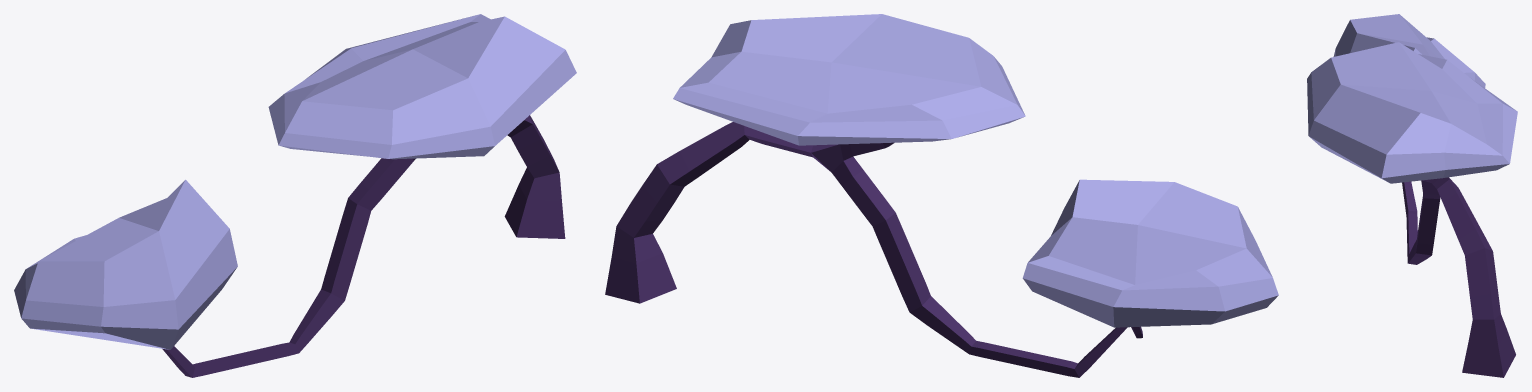
Rendered from Bush_00.fbx.
The picture shows the model from 3 angles, left to right: view 1: azimuth 30°, elevation 25°; view 2: azimuth 150°, elevation 25°; view 3: azimuth 270°, elevation 25°; orthographic projection. The views are drawn at different scales.
Parts seen in each view (by area): view 1: Bush_00; view 2: Bush_00; view 3: Bush_00.
Part boxes in pixels (x1,y1,x2,y2): Bush_00: (14,14,576,377); Bush_00: (605,14,1278,377); Bush_00: (1307,14,1517,377).
Bounding box in the file's own units: 683 × 306 × 241.
